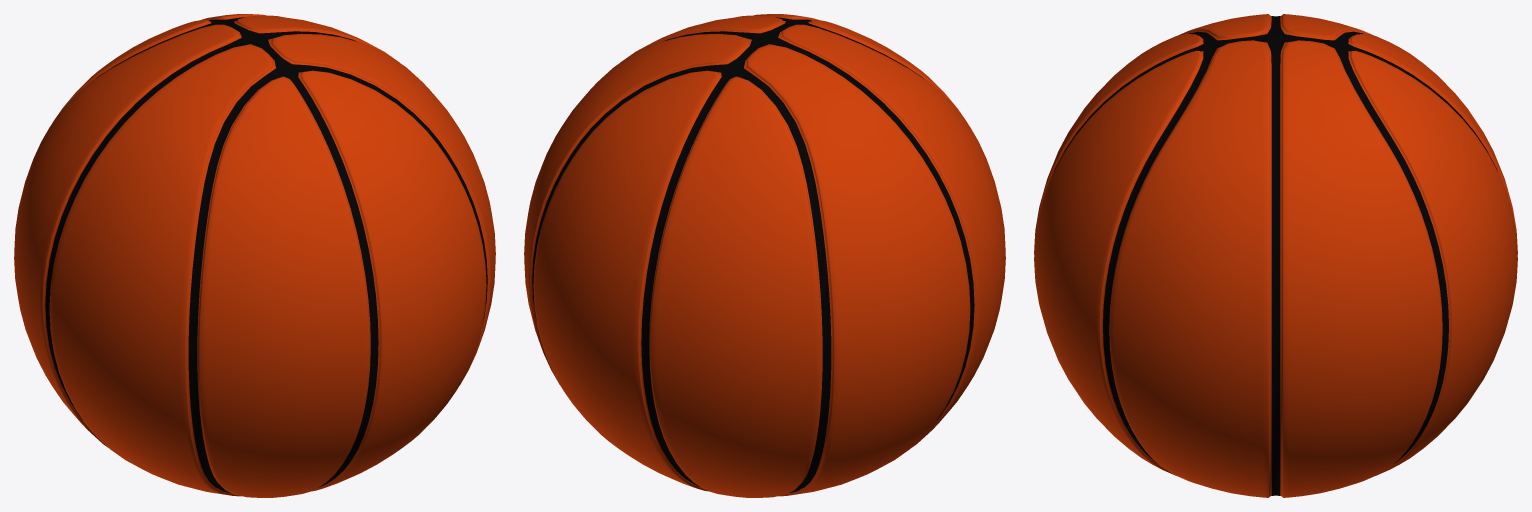
Rendered from Final Basketball.fbx.
3 views of the same model, side by side, from view 1: azimuth 30°, elevation 25°; view 2: azimuth 150°, elevation 25°; view 3: azimuth 270°, elevation 25° (orthographic).
Parts seen in each view (by area): view 1: Cube.001; view 2: Cube.001; view 3: Cube.001.
Part boxes in pixels (x1,y1,x2,y2): Cube.001: (14,14,495,497); Cube.001: (524,14,1005,497); Cube.001: (1034,14,1517,497).
Size of the model in its own units: 163 by 163 by 163.
